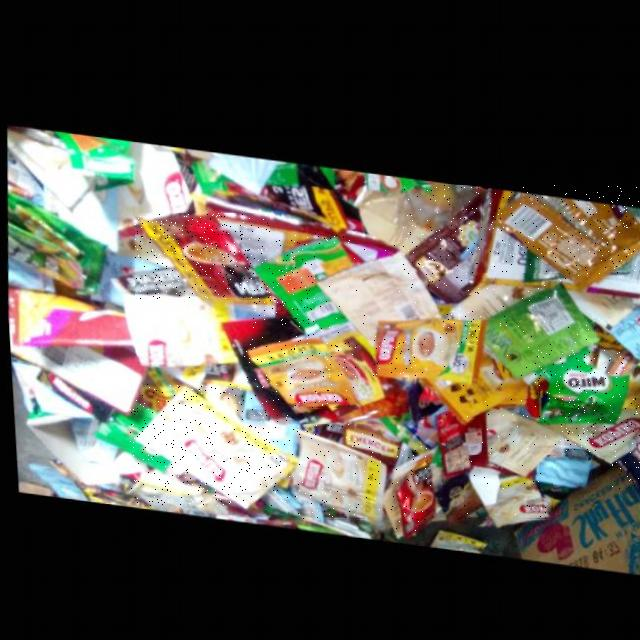wrapper: (130, 385, 294, 506), (488, 185, 640, 278), (315, 245, 439, 339), (136, 214, 270, 299), (482, 273, 595, 372), (252, 233, 353, 332), (288, 425, 381, 519), (403, 187, 482, 295), (244, 335, 357, 408), (416, 345, 523, 418), (373, 311, 485, 377), (536, 350, 625, 415), (465, 456, 553, 519), (540, 399, 639, 453), (483, 400, 558, 469), (391, 447, 431, 532), (612, 410, 640, 489)
